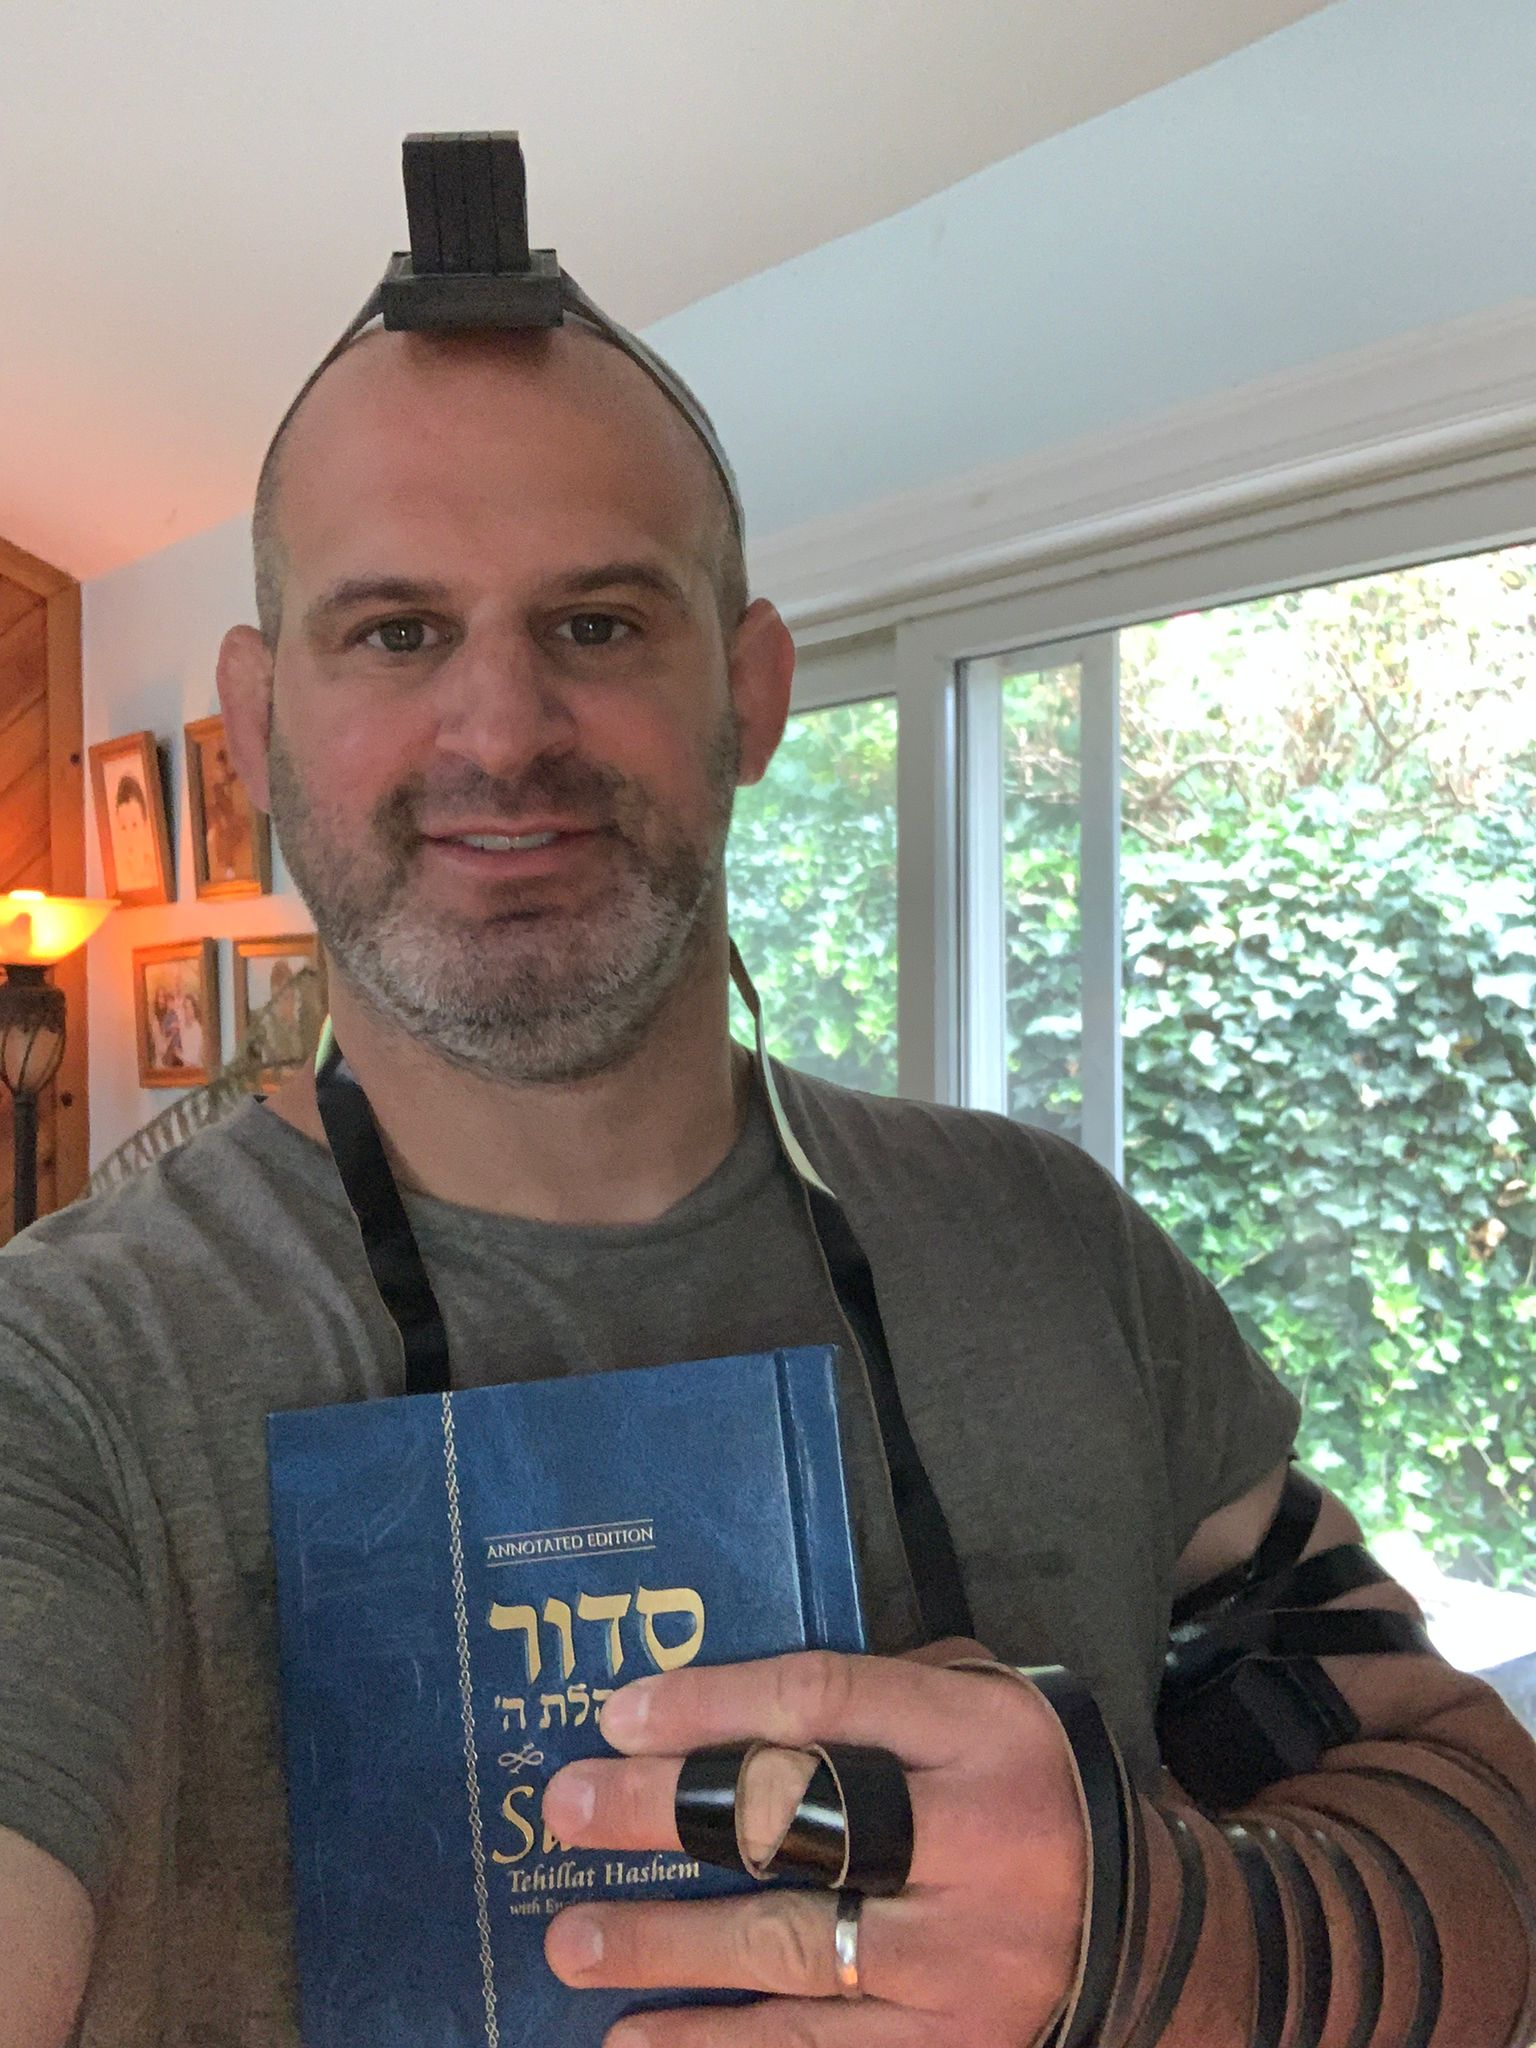tefillin: (1162, 1616, 1362, 1832), (374, 129, 573, 327)
